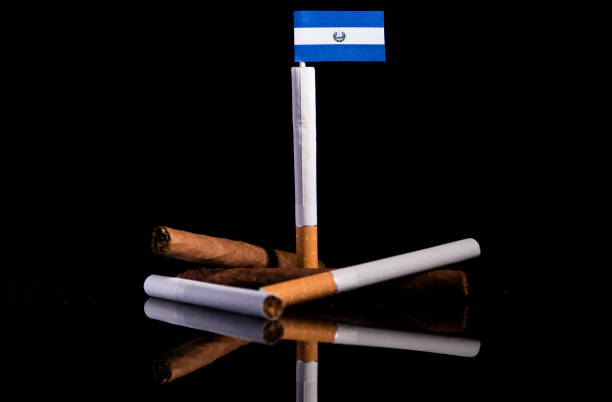cigarette: (259, 236, 482, 306), (277, 317, 482, 360), (142, 273, 284, 320), (144, 297, 284, 344), (148, 224, 296, 268), (289, 64, 319, 269), (150, 333, 245, 384), (357, 270, 469, 291), (293, 341, 319, 402)
